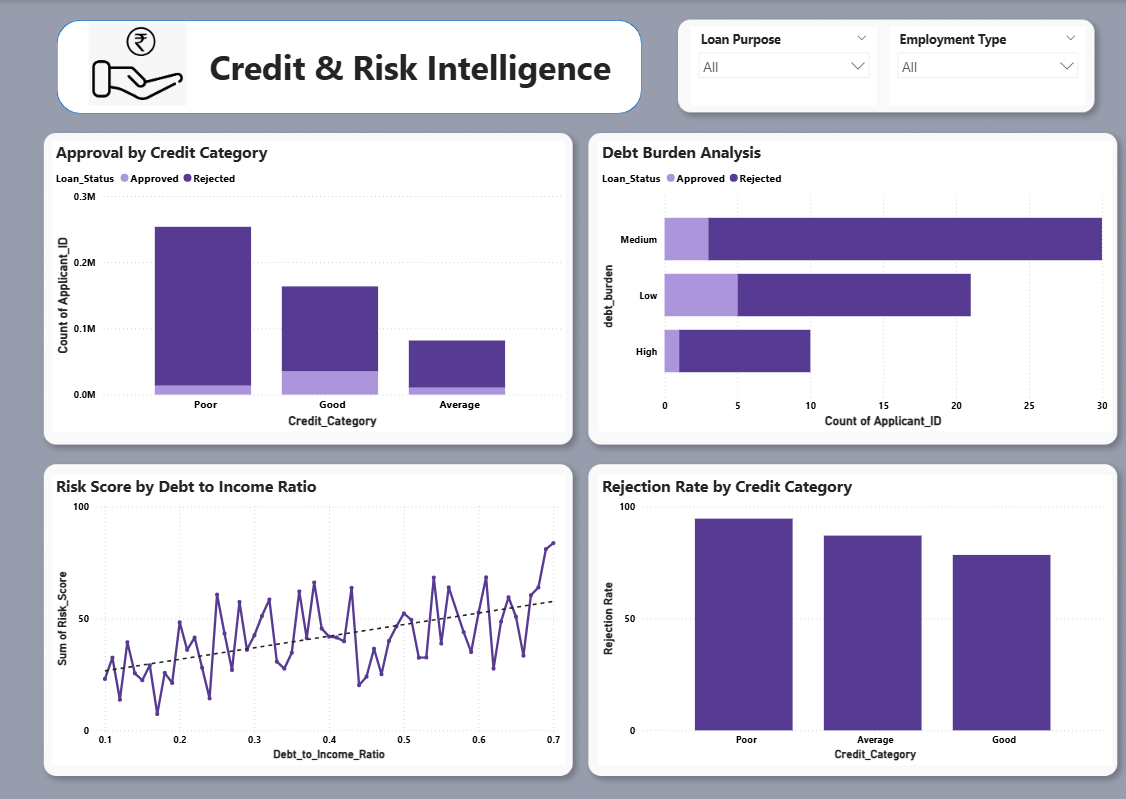

What the dashboard file says about the page in this screenshot:
{"tool":"powerbi","page":{"name":"Credit & Risk Intelligence","canvas":[1440,1024],"ordinal":1},"visuals":[{"type":"columnChart","title":"Approval by Credit Category","fields":{"Category":["loan_analysis loan_dataset.Credit_Category"],"Series":["loan_analysis loan_dataset.Loan_Status"],"Y":["CountNonNull(loan_analysis loan_dataset.Applicant_ID)"]},"box":[68.2,180.2,652.5,368.4],"z":0},{"type":"barChart","title":"Debt Burden Analysis","fields":{"Category":["loan_analysis vw_customer_risk_profile.debt_burden"],"Series":["loan_analysis loan_dataset.Loan_Status"],"Y":["CountNonNull(loan_analysis vw_customer_risk_profile.Applicant_ID)"]},"box":[762.9,180.2,652.5,368.4],"z":1000},{"type":"lineChart","title":" Risk Score by Debt to Income Ratio","fields":{"Category":["loan_analysis vw_financial_strength.Debt_to_Income_Ratio"],"Y":["Sum(loan_analysis vw_customer_risk_profile.Risk_Score)"]},"box":[68.2,603.8,652.5,368.4],"z":2000},{"type":"columnChart","title":"Rejection Rate by Credit Category","fields":{"Category":["loan_analysis loan_dataset.Credit_Category"],"Y":["loan_analysis loan_dataset.Rejection Rate"]},"box":[762.9,603.8,652.5,368.4],"z":3000},{"type":"slicer","fields":{"Values":["loan_analysis loan_dataset.Loan_Purpose"]},"box":[879.7,34.1,237,100.6],"z":4000},{"type":"slicer","fields":{"Values":["loan_analysis loan_dataset.Employment_Type"]},"box":[1132.9,34.1,250,100.6],"z":5000},{"type":"shape","box":[74.6,25.4,743.2,119.1],"z":6000},{"type":"textbox","box":[92.5,34.1,709.3,100.6],"z":7000},{"type":"image","box":[92.5,29.2,170.4,105.5],"z":8000}]}

Visuals, with their boxes in screenshot pixels (x1, y1, x2, y2), scaled from the page's 1440x1024 canvas onto the 1126x799 screenshot:
"Approval by Credit Category" columnChart: left=53, top=141, right=564, bottom=428
"Debt Burden Analysis" barChart: left=597, top=141, right=1107, bottom=428
" Risk Score by Debt to Income Ratio" lineChart: left=53, top=471, right=564, bottom=759
"Rejection Rate by Credit Category" columnChart: left=597, top=471, right=1107, bottom=759
slicer - loan_analysis loan_dataset.Loan_Purpose: left=688, top=27, right=873, bottom=105
slicer - loan_analysis loan_dataset.Employment_Type: left=886, top=27, right=1081, bottom=105
shape: left=58, top=20, right=639, bottom=113
textbox: left=72, top=27, right=627, bottom=105
image: left=72, top=23, right=206, bottom=105
